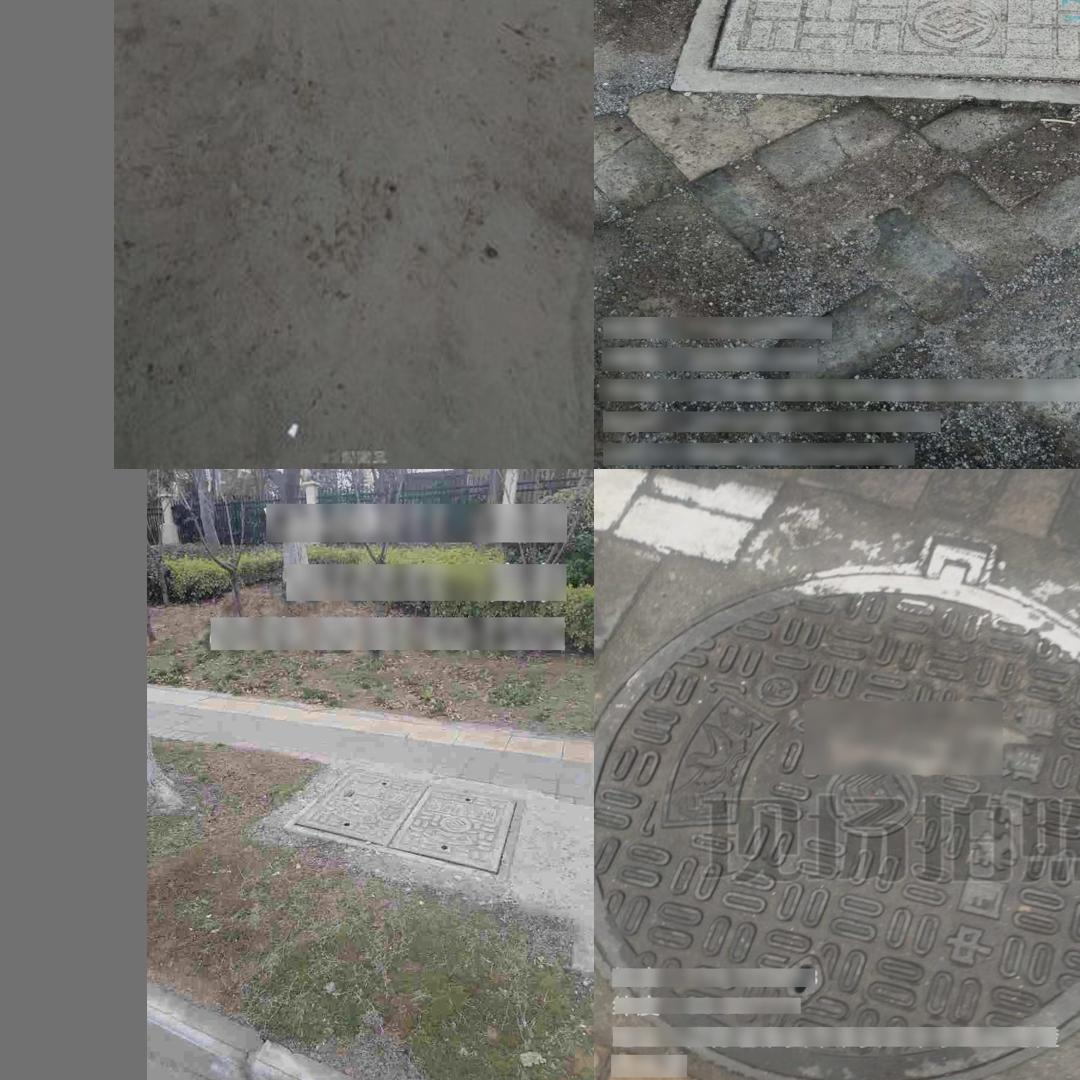good: (595, 530, 1080, 1080), (670, 0, 1080, 111), (281, 764, 523, 882)
